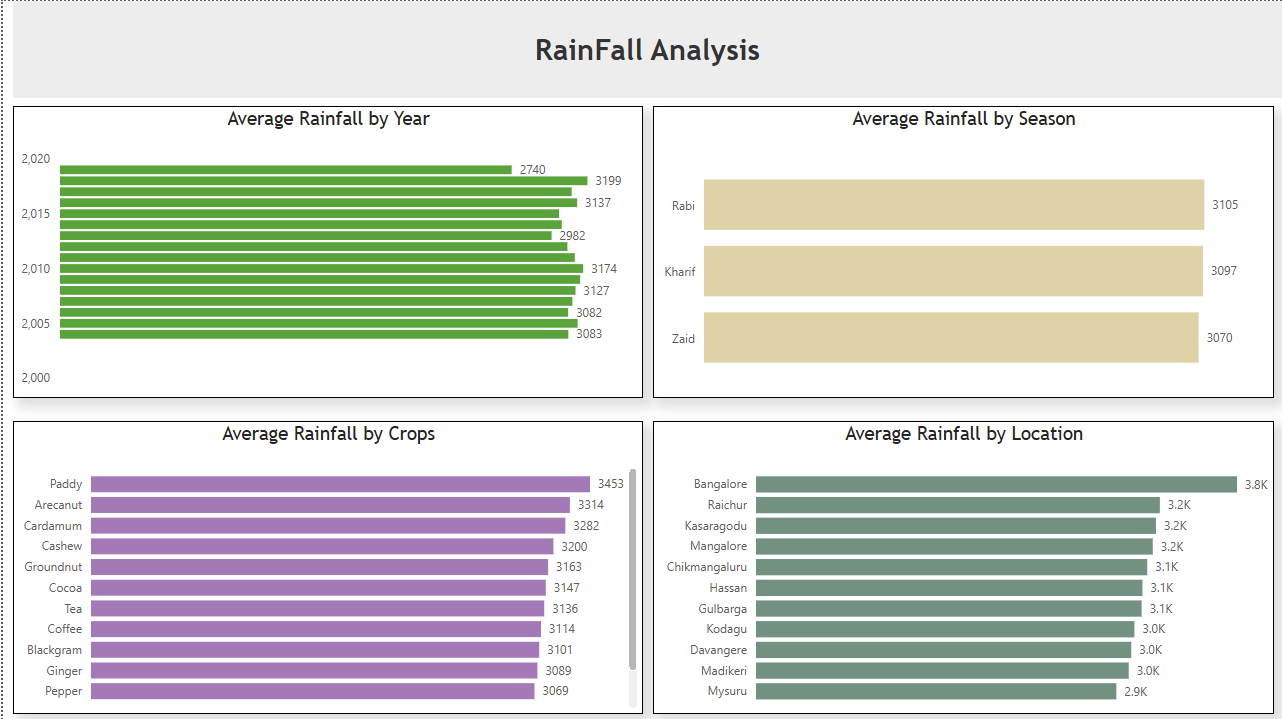

This screenshot's page, from the dashboard's own definition file:
{"tool":"powerbi","page":{"name":"Rainfall Analysis","canvas":[1280,720],"ordinal":0},"visuals":[{"type":"shape","box":[9.7,0,1270.3,97.3],"z":0},{"type":"barChart","title":"Average Rainfall by Year","fields":{"Category":["AGRICULTURE.YEAR"],"Y":["Avg(AGRICULTURE.RAINFALL)"]},"box":[9.7,105,630.3,291.8],"z":1},{"type":"barChart","title":"Average Rainfall by Season","fields":{"Y":["Avg(AGRICULTURE.RAINFALL)"],"Category":["AGRICULTURE.SEASON"]},"box":[649.7,105,621.5,291.8],"z":2},{"type":"barChart","title":"Average Rainfall by Crops","fields":{"Y":["Avg(AGRICULTURE.RAINFALL)"],"Category":["AGRICULTURE.CROPS"]},"box":[9.7,420.2,630.3,292.8],"z":3},{"type":"barChart","title":"Average Rainfall by Location","fields":{"Y":["Avg(AGRICULTURE.RAINFALL)"],"Category":["AGRICULTURE.LOCATION"]},"box":[649.7,420.2,621.5,292.8],"z":4}]}

Visuals, with their boxes in screenshot pixels (x1, y1, x2, y2), scaled from the page's 1280x720 canvas onto the 1282x719 screenshot:
shape: 10, 0, 1281, 97
"Average Rainfall by Year" barChart: 10, 105, 641, 396
"Average Rainfall by Season" barChart: 651, 105, 1273, 396
"Average Rainfall by Crops" barChart: 10, 420, 641, 712
"Average Rainfall by Location" barChart: 651, 420, 1273, 712
